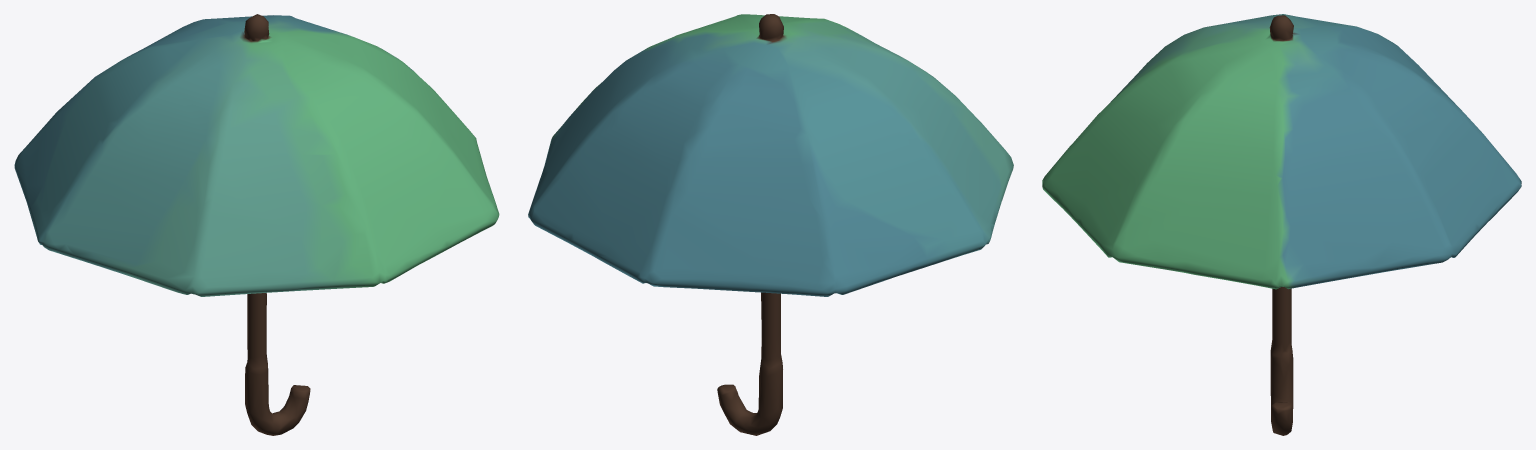
Rendered from gen3d-open-umbrella-lod0.glb.
The picture shows the model from 3 angles, left to right: view 1: azimuth 30°, elevation 25°; view 2: azimuth 150°, elevation 25°; view 3: azimuth 270°, elevation 25°; orthographic projection. The views are drawn at different scales.
Parts seen in each view (by area): view 1: part_0; view 2: part_0; view 3: part_0.
Part boxes in pixels (x1,y1,x2,y2): part_0: (14, 14, 499, 435); part_0: (528, 14, 1013, 435); part_0: (1042, 14, 1521, 435).
Size of the model in its own units: 1.07 by 0.9989 by 1.07.
